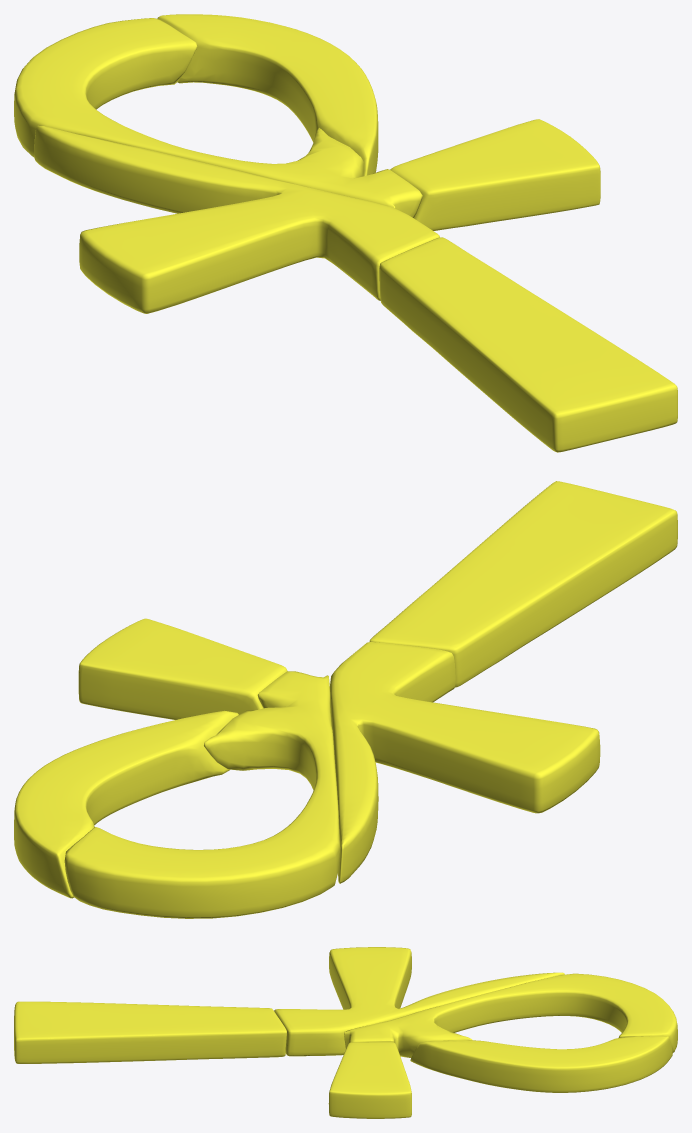
The model's file is ankhgold.fbx.
The picture shows the model from 3 angles, top to bottom: view 1: azimuth 30°, elevation 25°; view 2: azimuth 150°, elevation 25°; view 3: azimuth 270°, elevation 25°; orthographic projection. The views are drawn at different scales.
Parts seen in each view (by area): view 1: shard11; view 2: shard11; view 3: shard11.
Boxes of the visible parts, x1,y1,x2,y2 form: shard11: [14, 14, 677, 452]; shard11: [14, 481, 677, 918]; shard11: [14, 947, 677, 1118].
Bounding box in the file's own units: 149 × 12.86 × 282.
